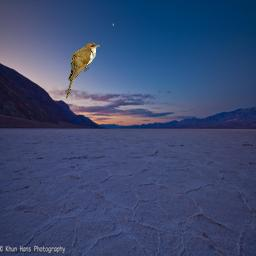Cuckoo: (66, 42, 100, 99)
